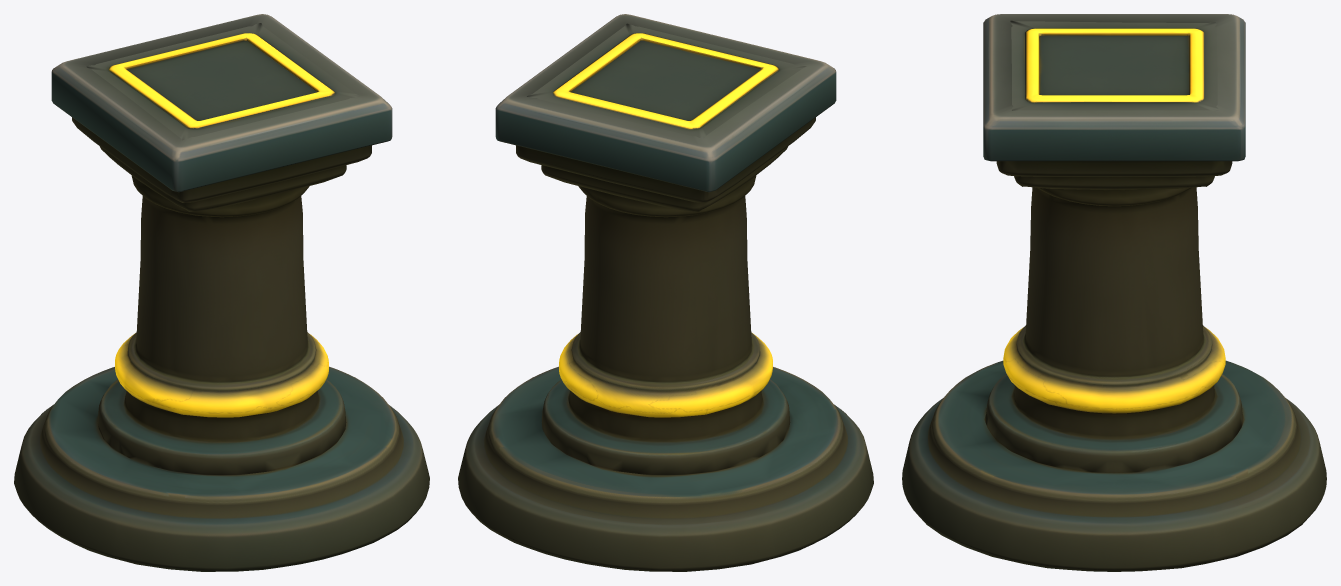
The model's file is VAL_Pedestal_MML_OS_FINAL.glb.
The picture shows the model from 3 angles, left to right: view 1: azimuth 30°, elevation 25°; view 2: azimuth 150°, elevation 25°; view 3: azimuth 270°, elevation 25°; orthographic projection. The views are drawn at different scales.
Visible parts, largest first — view 1: material; view 2: material; view 3: material.
Part boxes in pixels (bbox=[...]): material: bbox=[14, 14, 429, 571]; material: bbox=[458, 14, 873, 571]; material: bbox=[902, 14, 1326, 571].
Size of the model in its own units: 0.9146 by 1 by 0.9146.
Materials: 1 (1 with a texture image).
